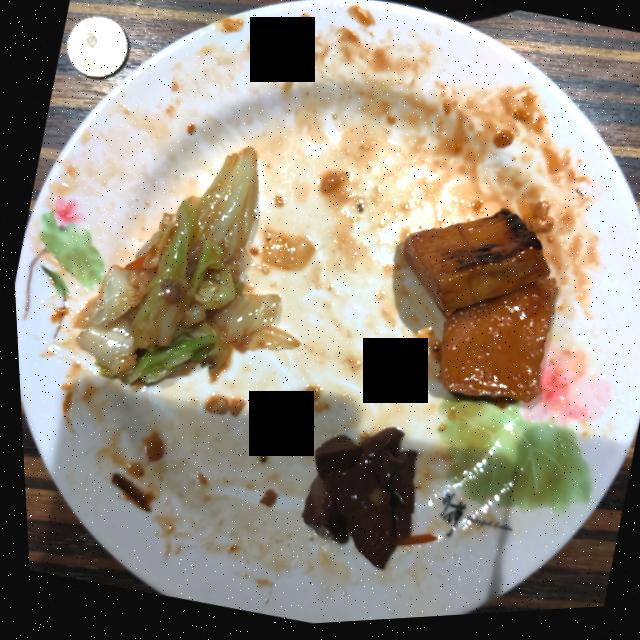cabbage: (70, 149, 294, 386), (248, 231, 311, 273)
coin: (66, 17, 127, 78)
creamy tofu: (399, 214, 554, 407)
pig blood curd: (296, 431, 410, 572)
